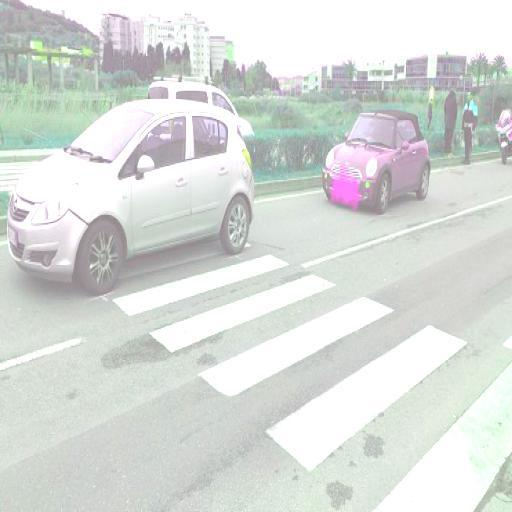crosswalk: (187, 292, 491, 496)
